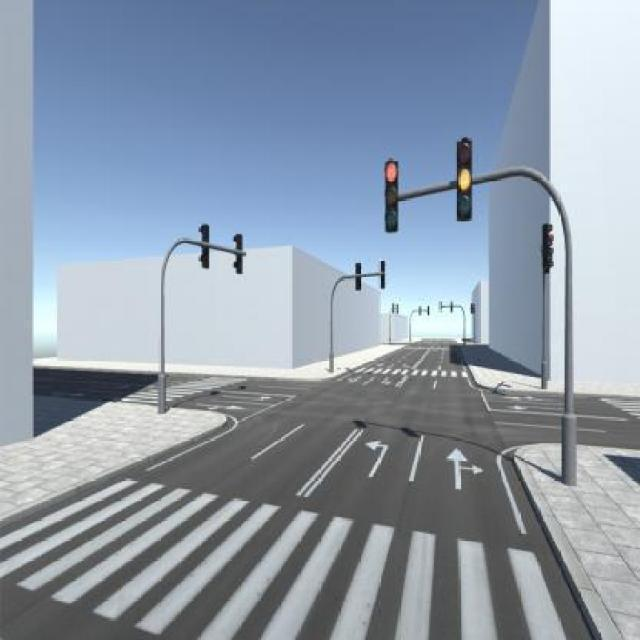red_light: (378, 144, 408, 242)
